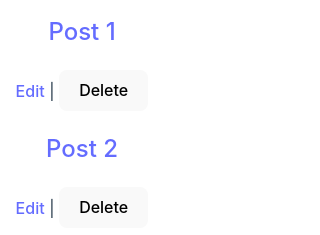
Test: PostsList component › deletes a post when delete button is clicked
The image size is (320, 235).
expect the link "Post 1" is shown: met, box [48,17,116,46]
Step 1. Click the button "Delete" below "Post 1" → (104, 90), box [59,70,148,111]
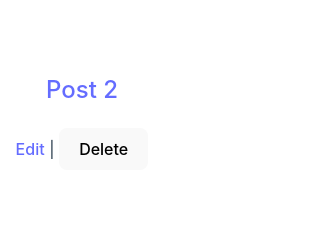
expect the link "Post 1" is gone: met
